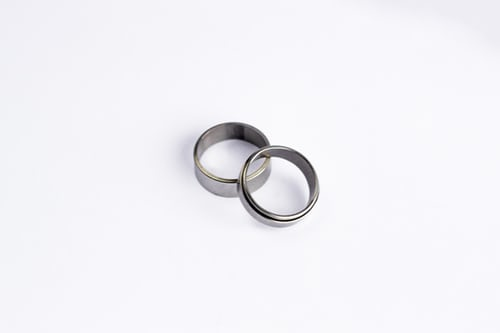ring: (197, 117, 340, 236)
